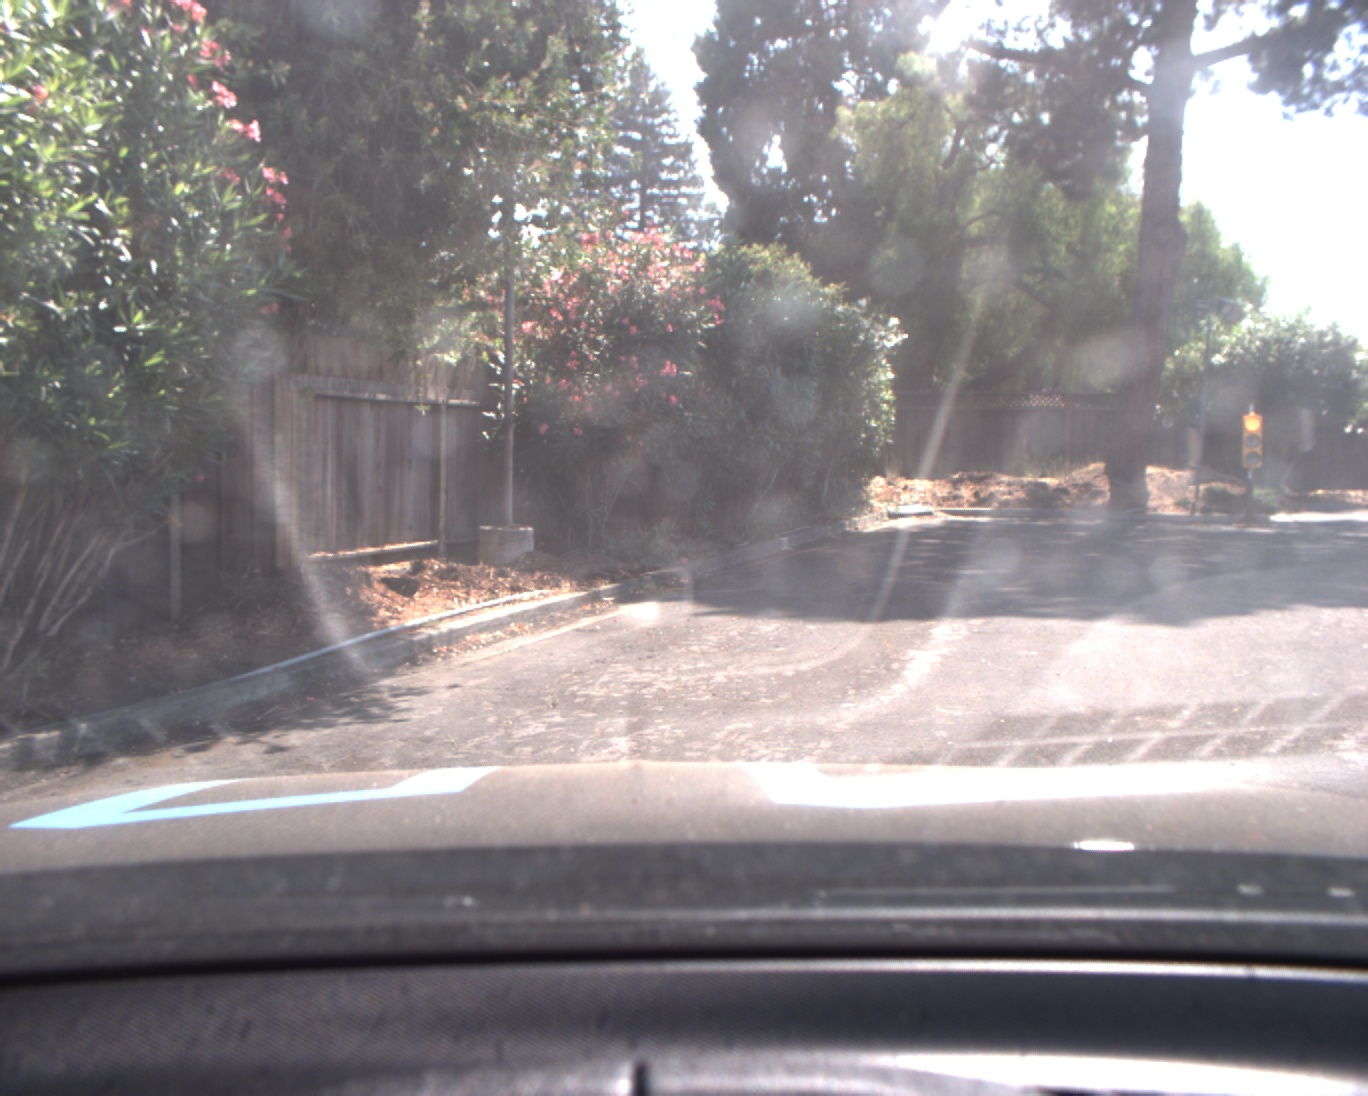red: (1242, 415, 1261, 465)
